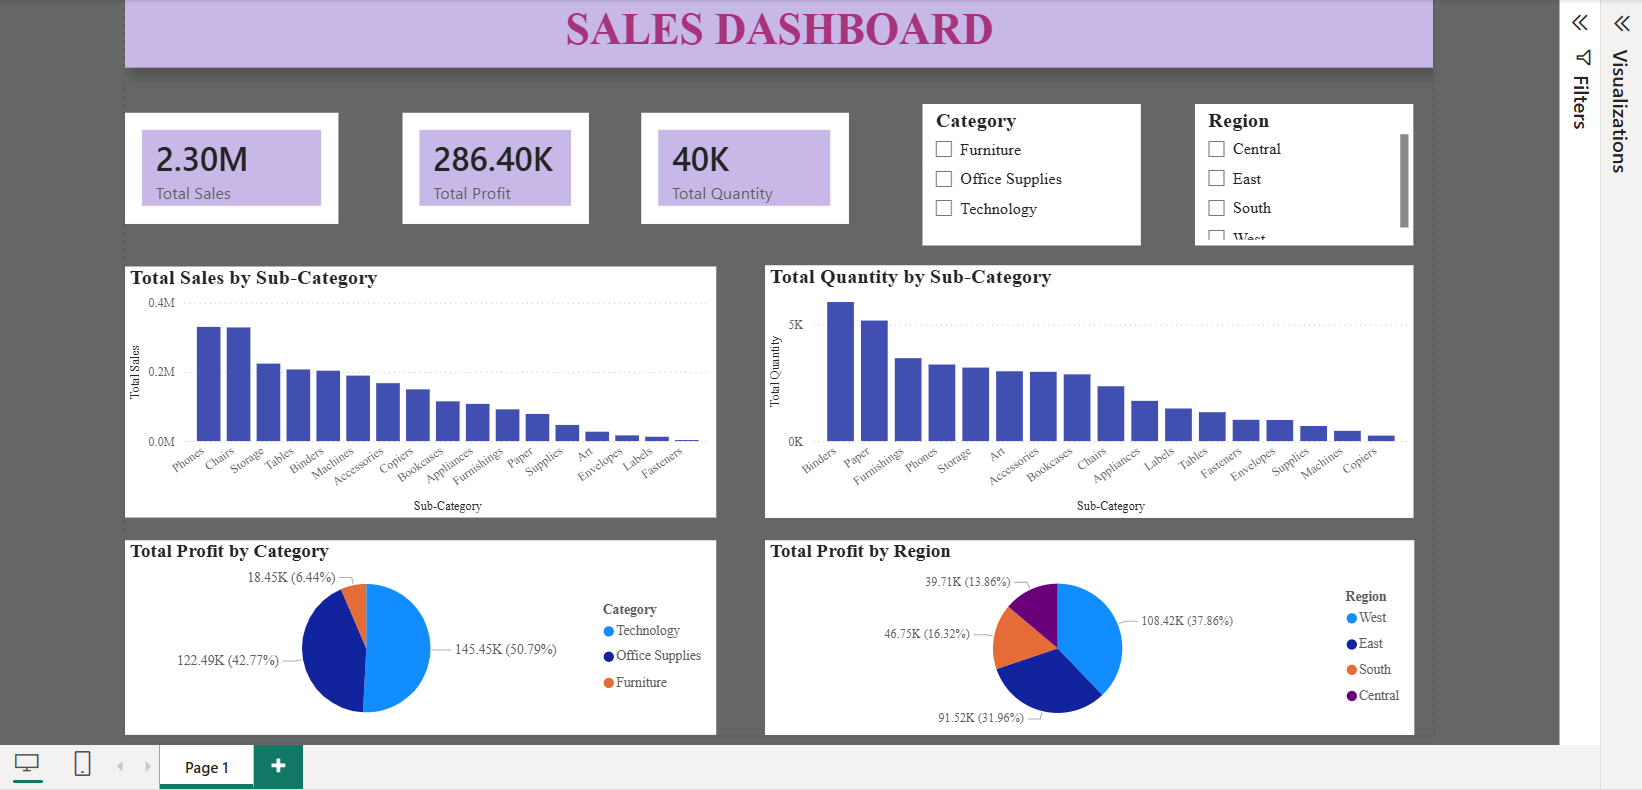

What the dashboard file says about the page in this screenshot:
{"tool":"powerbi","page":{"name":"Page 1","canvas":[1280,720],"ordinal":0},"visuals":[{"type":"textbox","box":[0,0,1280.3,67.3],"z":0},{"type":"cardVisual","fields":{"Data":["Sum(Orders.Sales)"]},"box":[0,111.3,209.1,108.8],"z":1},{"type":"cardVisual","fields":{"Data":["Sum(Orders.Profit)"]},"box":[271.5,111.3,182.2,108.8],"z":2},{"type":"cardVisual","fields":{"Data":["Sum(Orders.Quantity)"]},"box":[505,111.3,203,108.8],"z":3},{"type":"slicer","fields":{"Values":["Orders.Category"]},"box":[780.2,102.7,214,138.2],"z":4},{"type":"slicer","fields":{"Values":["Orders.Region"]},"box":[1046.7,102.7,214,138.2],"z":5},{"type":"columnChart","fields":{"Y":["Sum(Orders.Sales)"],"Category":["Orders.Sub-Category"]},"box":[0,261.7,578.4,245.8],"z":6},{"type":"columnChart","fields":{"Y":["Sum(Orders.Quantity)"],"Category":["Orders.Sub-Category"]},"box":[626.1,260.5,634.7,247],"z":7},{"type":"pieChart","fields":{"Y":["Sum(Orders.Profit)"],"Category":["Orders.Category"]},"box":[0,529.5,578.4,190.8],"z":8},{"type":"pieChart","fields":{"Y":["Sum(Orders.Profit)"],"Category":["Orders.Region"]},"box":[626,529,635,191],"z":9}]}

Visuals, with their boxes in screenshot pixels (x1, y1, x2, y2):
textbox: 239/0/1578/58
cardVisual - Sum(Orders.Sales): 239/103/458/217
cardVisual - Sum(Orders.Profit): 523/103/714/217
cardVisual - Sum(Orders.Quantity): 767/103/979/217
slicer - Orders.Category: 1055/95/1278/239
slicer - Orders.Region: 1333/95/1557/239
columnChart - Sum(Orders.Sales) x Orders.Sub-Category: 239/261/844/518
columnChart - Sum(Orders.Quantity) x Orders.Sub-Category: 894/259/1557/518
pieChart - Sum(Orders.Profit) x Orders.Category: 239/541/844/740
pieChart - Sum(Orders.Profit) x Orders.Region: 894/540/1557/740
